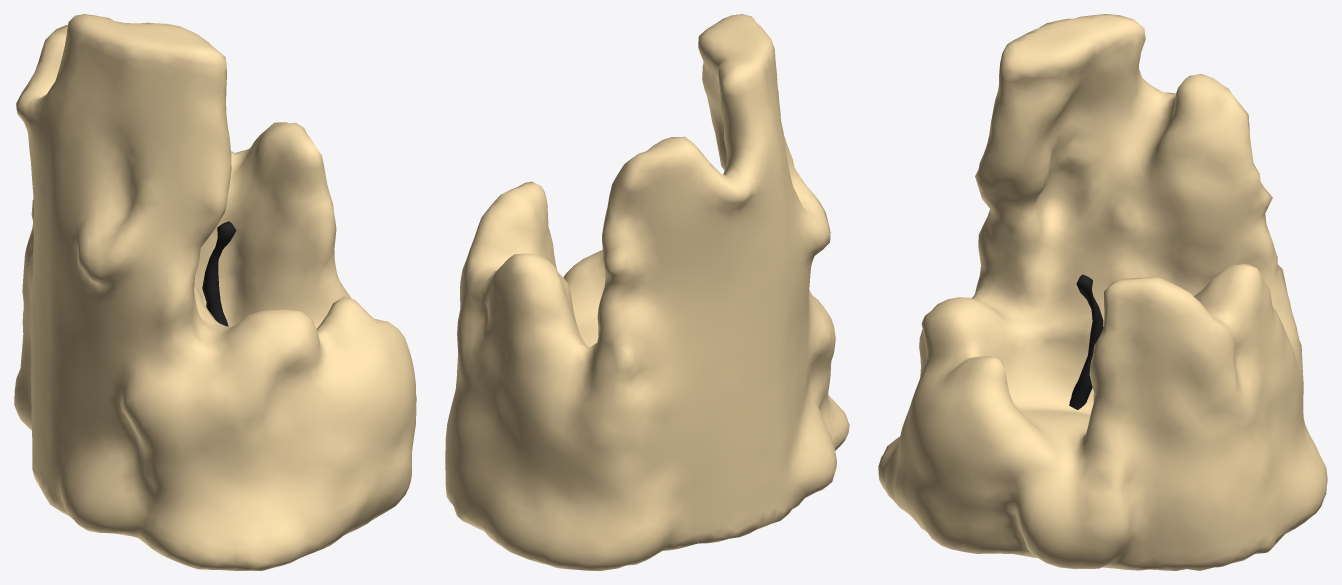
Rendered from SM_Melted_Candle_05.fbx.
3 views of the same model, side by side, from view 1: azimuth 30°, elevation 25°; view 2: azimuth 150°, elevation 25°; view 3: azimuth 270°, elevation 25° (orthographic). The views are drawn at different scales.
Visible parts, largest first — view 1: Candle_Export; view 2: Candle_Export; view 3: Candle_Export.
Boxes of the visible parts, box(x1,y1,x2,y2) form: Candle_Export: box(14, 14, 416, 570); Candle_Export: box(445, 14, 849, 570); Candle_Export: box(878, 14, 1327, 570).
Bounding box in the file's own units: 7.75 × 10.18 × 9.41.
